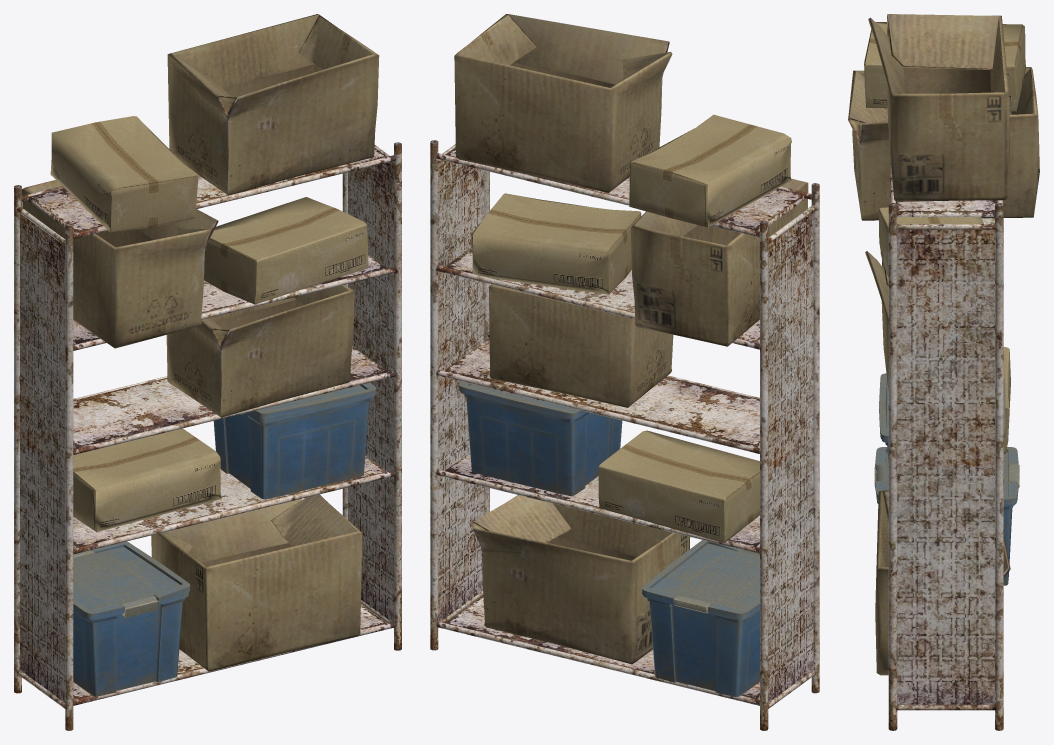
File: sm39_064_ironshelfset05a.fbx
3 renders of one model, left to right at view 1: azimuth 30°, elevation 25°; view 2: azimuth 150°, elevation 25°; view 3: azimuth 270°, elevation 25°, orthographic. The views are drawn at different scales.
Parts seen in each view (by area): view 1: LOD_1_Group_0_Sub_1__sm36_002_Cardboard01A_A_Mat, LOD_1_Group_0_Sub_4__sm30_045_IronShelf01A_A_Mat, LOD_1_Group_0_Sub_2__sm36_004_Cardboard03A_A_Mat, LOD_1_Group_0_Sub_3__sm30_074_PlasticBox01A_A_Mat; view 2: LOD_1_Group_0_Sub_1__sm36_002_Cardboard01A_A_Mat, LOD_1_Group_0_Sub_4__sm30_045_IronShelf01A_A_Mat, LOD_1_Group_0_Sub_2__sm36_004_Cardboard03A_A_Mat, LOD_1_Group_0_Sub_3__sm30_074_PlasticBox01A_A_Mat; view 3: LOD_1_Group_0_Sub_4__sm30_045_IronShelf01A_A_Mat, LOD_1_Group_0_Sub_1__sm36_002_Cardboard01A_A_Mat, LOD_1_Group_0_Sub_2__sm36_004_Cardboard03A_A_Mat, LOD_1_Group_0_Sub_3__sm30_074_PlasticBox01A_A_Mat.
Part boxes in pixels (x1,y1,x2,y2): LOD_1_Group_0_Sub_1__sm36_002_Cardboard01A_A_Mat: [22, 14, 379, 671]; LOD_1_Group_0_Sub_4__sm30_045_IronShelf01A_A_Mat: [14, 142, 401, 730]; LOD_1_Group_0_Sub_2__sm36_004_Cardboard03A_A_Mat: [50, 116, 368, 531]; LOD_1_Group_0_Sub_3__sm30_074_PlasticBox01A_A_Mat: [73, 382, 376, 696]; LOD_1_Group_0_Sub_1__sm36_002_Cardboard01A_A_Mat: [454, 14, 808, 664]; LOD_1_Group_0_Sub_4__sm30_045_IronShelf01A_A_Mat: [430, 140, 819, 730]; LOD_1_Group_0_Sub_2__sm36_004_Cardboard03A_A_Mat: [471, 114, 791, 542]; LOD_1_Group_0_Sub_3__sm30_074_PlasticBox01A_A_Mat: [459, 381, 759, 696]; LOD_1_Group_0_Sub_4__sm30_045_IronShelf01A_A_Mat: [888, 158, 1003, 730]; LOD_1_Group_0_Sub_1__sm36_002_Cardboard01A_A_Mat: [848, 14, 1039, 675]; LOD_1_Group_0_Sub_2__sm36_004_Cardboard03A_A_Mat: [864, 22, 1025, 453]; LOD_1_Group_0_Sub_3__sm30_074_PlasticBox01A_A_Mat: [874, 373, 1019, 585].
Bounding box in the file's own units: 1.39 × 2.38 × 0.663.
